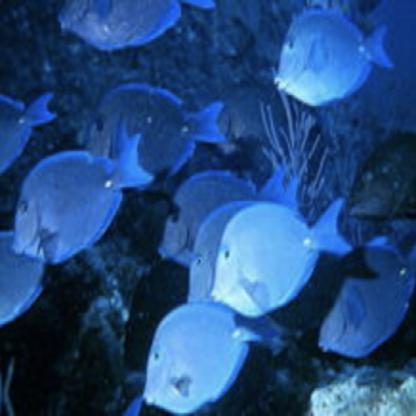Bio: (12, 133, 156, 265), (142, 301, 301, 410), (210, 196, 350, 315), (272, 4, 394, 106), (58, 0, 216, 53)
